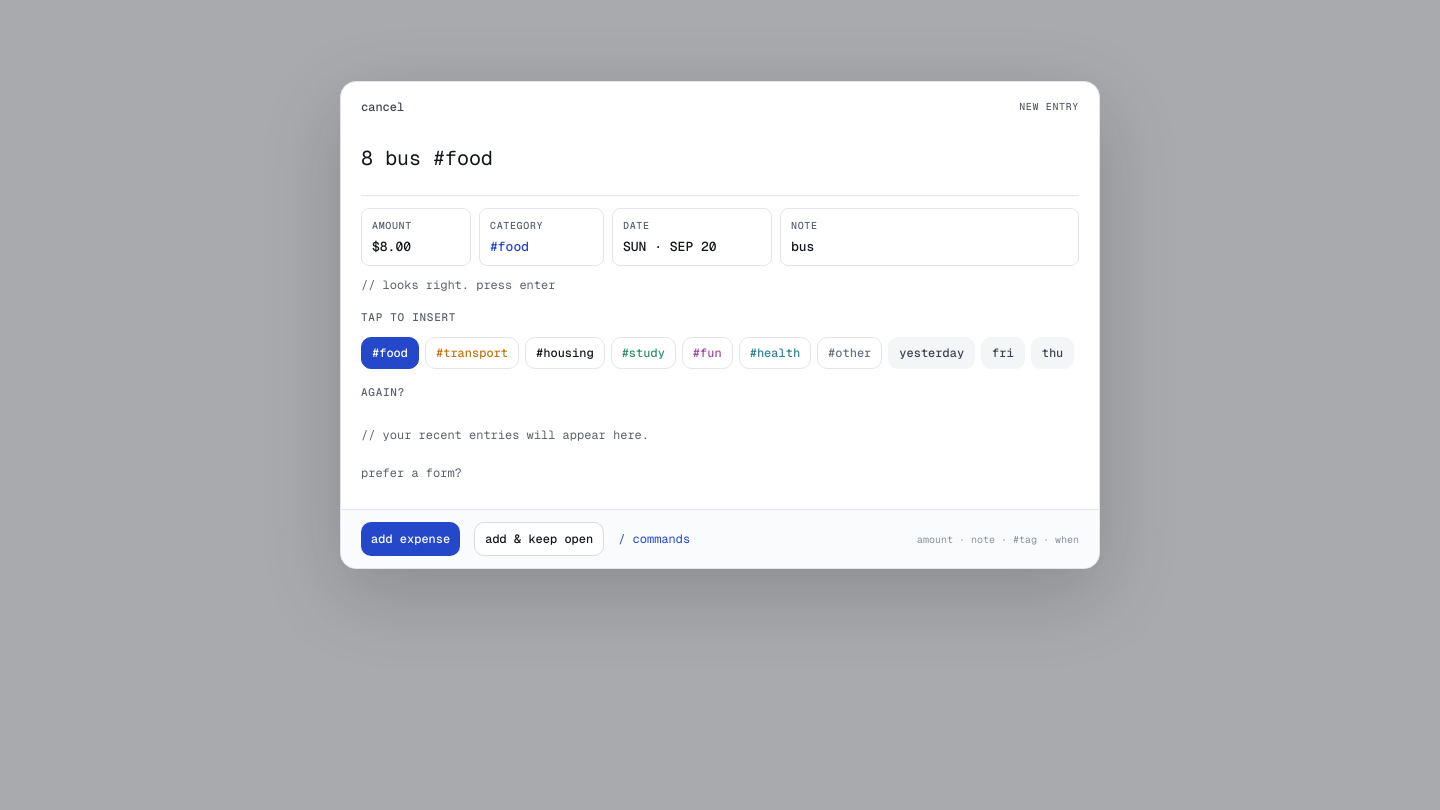
replaces category tokens, appends a relative date and clears a prior error
The image size is (1440, 810).
Click the button "add expense".
click(411, 539)  # box [361,522,460,556]
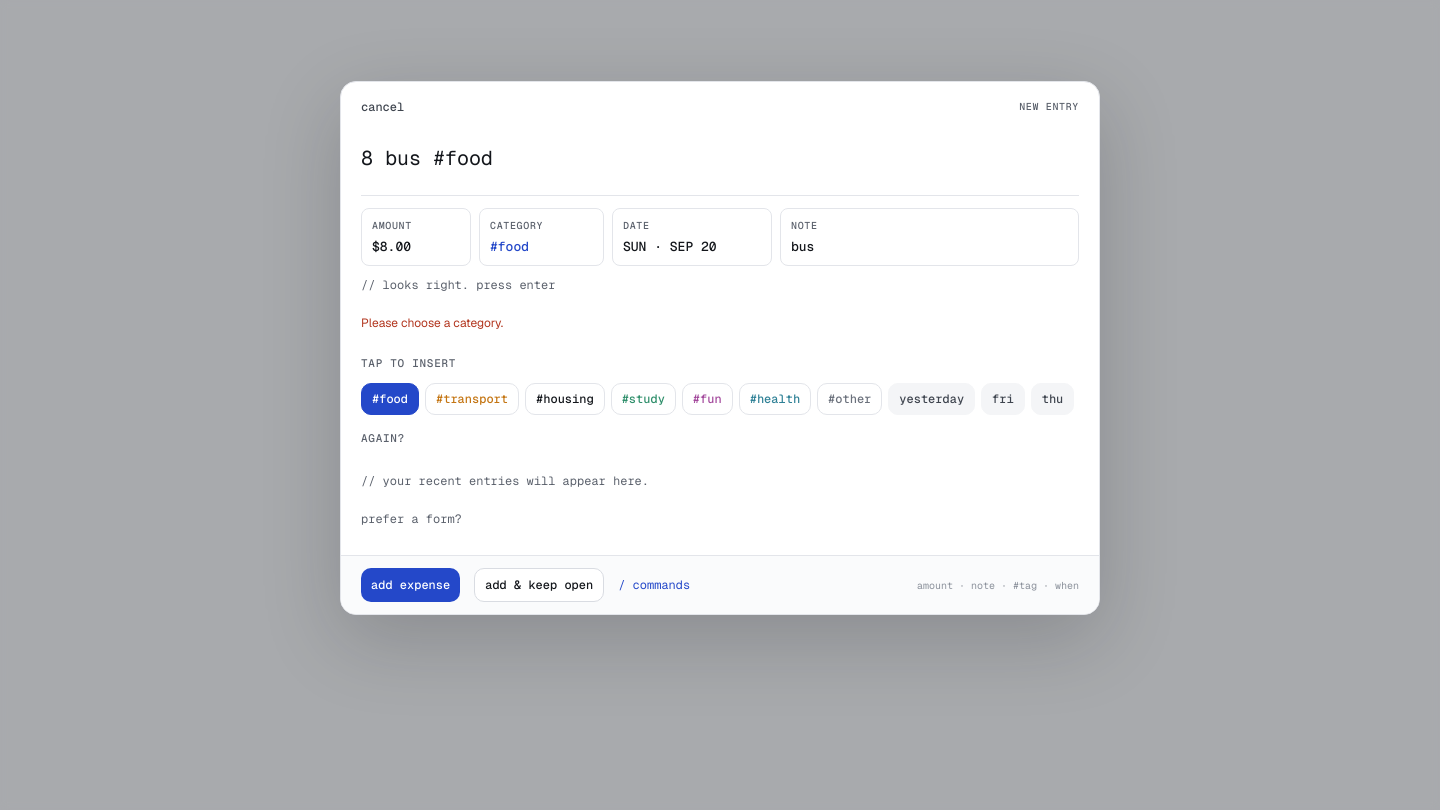
Now the message "Please choose a category." is shown, box [361,315,503,331]
Click the button "#transport".
click(472, 399)  # box [425,383,519,415]
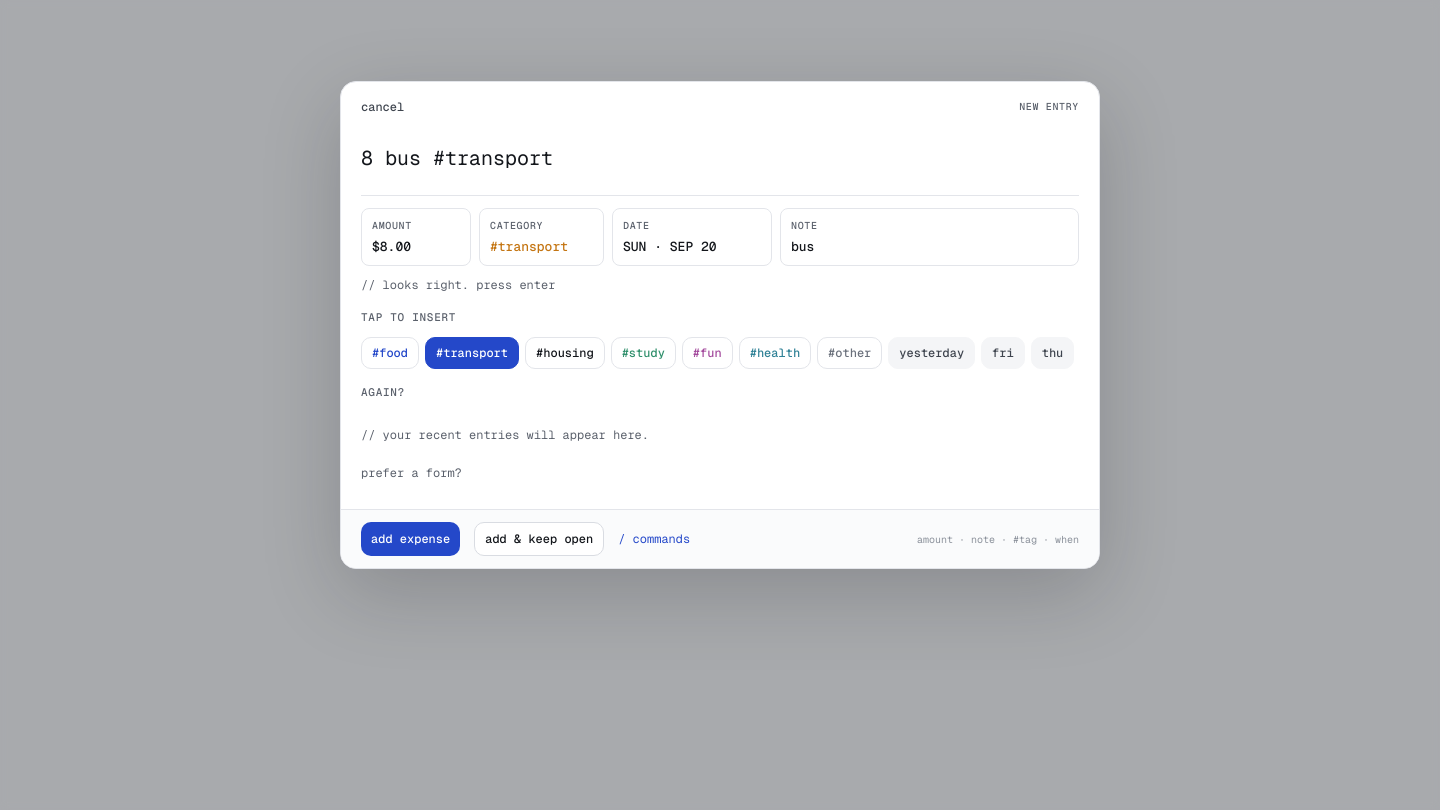
Now the text box named "TYPE IT LIKE A NOTE" holds "8 bus #transport", box [361,132,1079,196]
Now the message "Please choose a category." is gone
Click the button "yesterday".
click(932, 353)  # box [888,337,975,369]
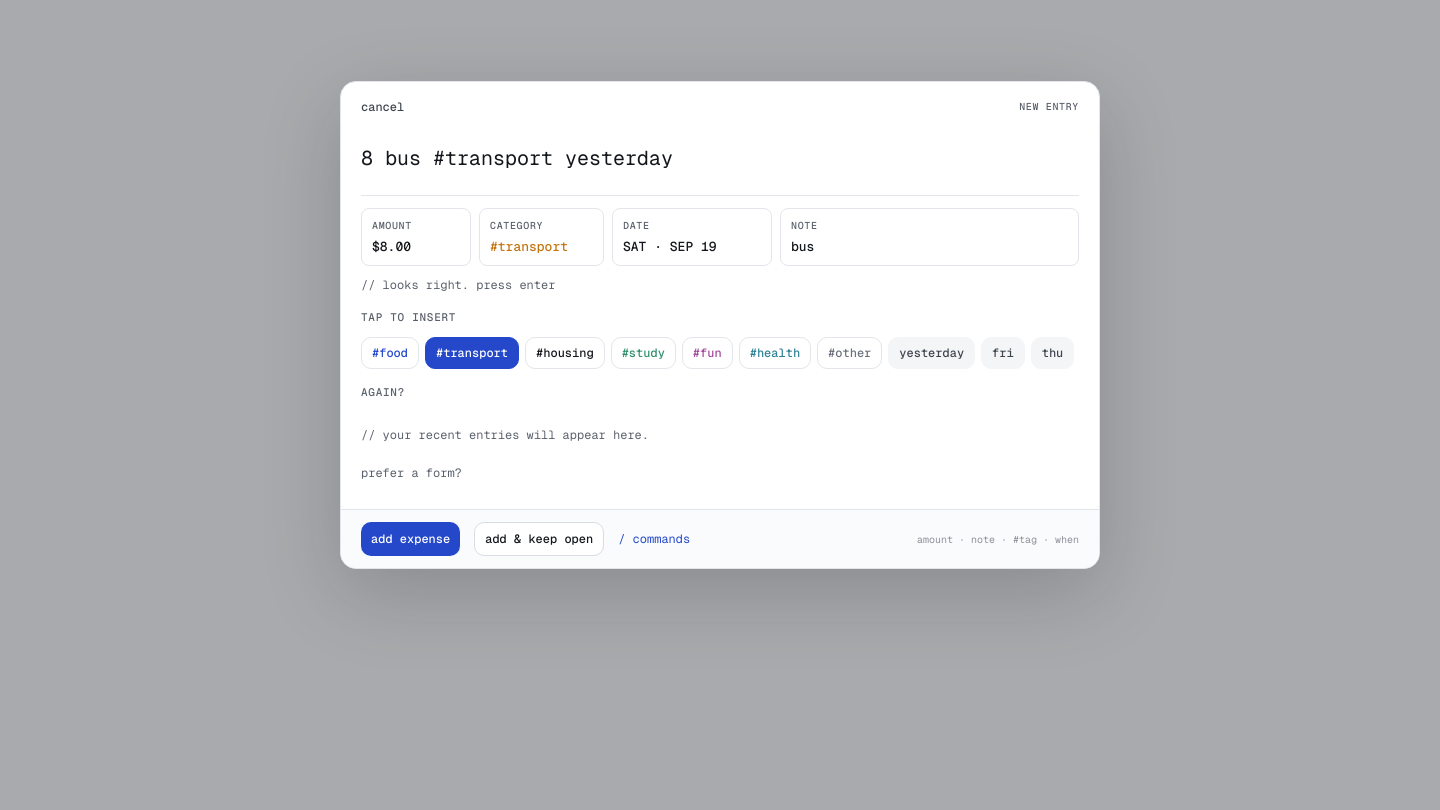
Now the text box named "TYPE IT LIKE A NOTE" holds "8 bus #transport yesterday", box [361,132,1079,196]
Now the text "SAT · SEP 19" is shown, box [623,238,717,255]
